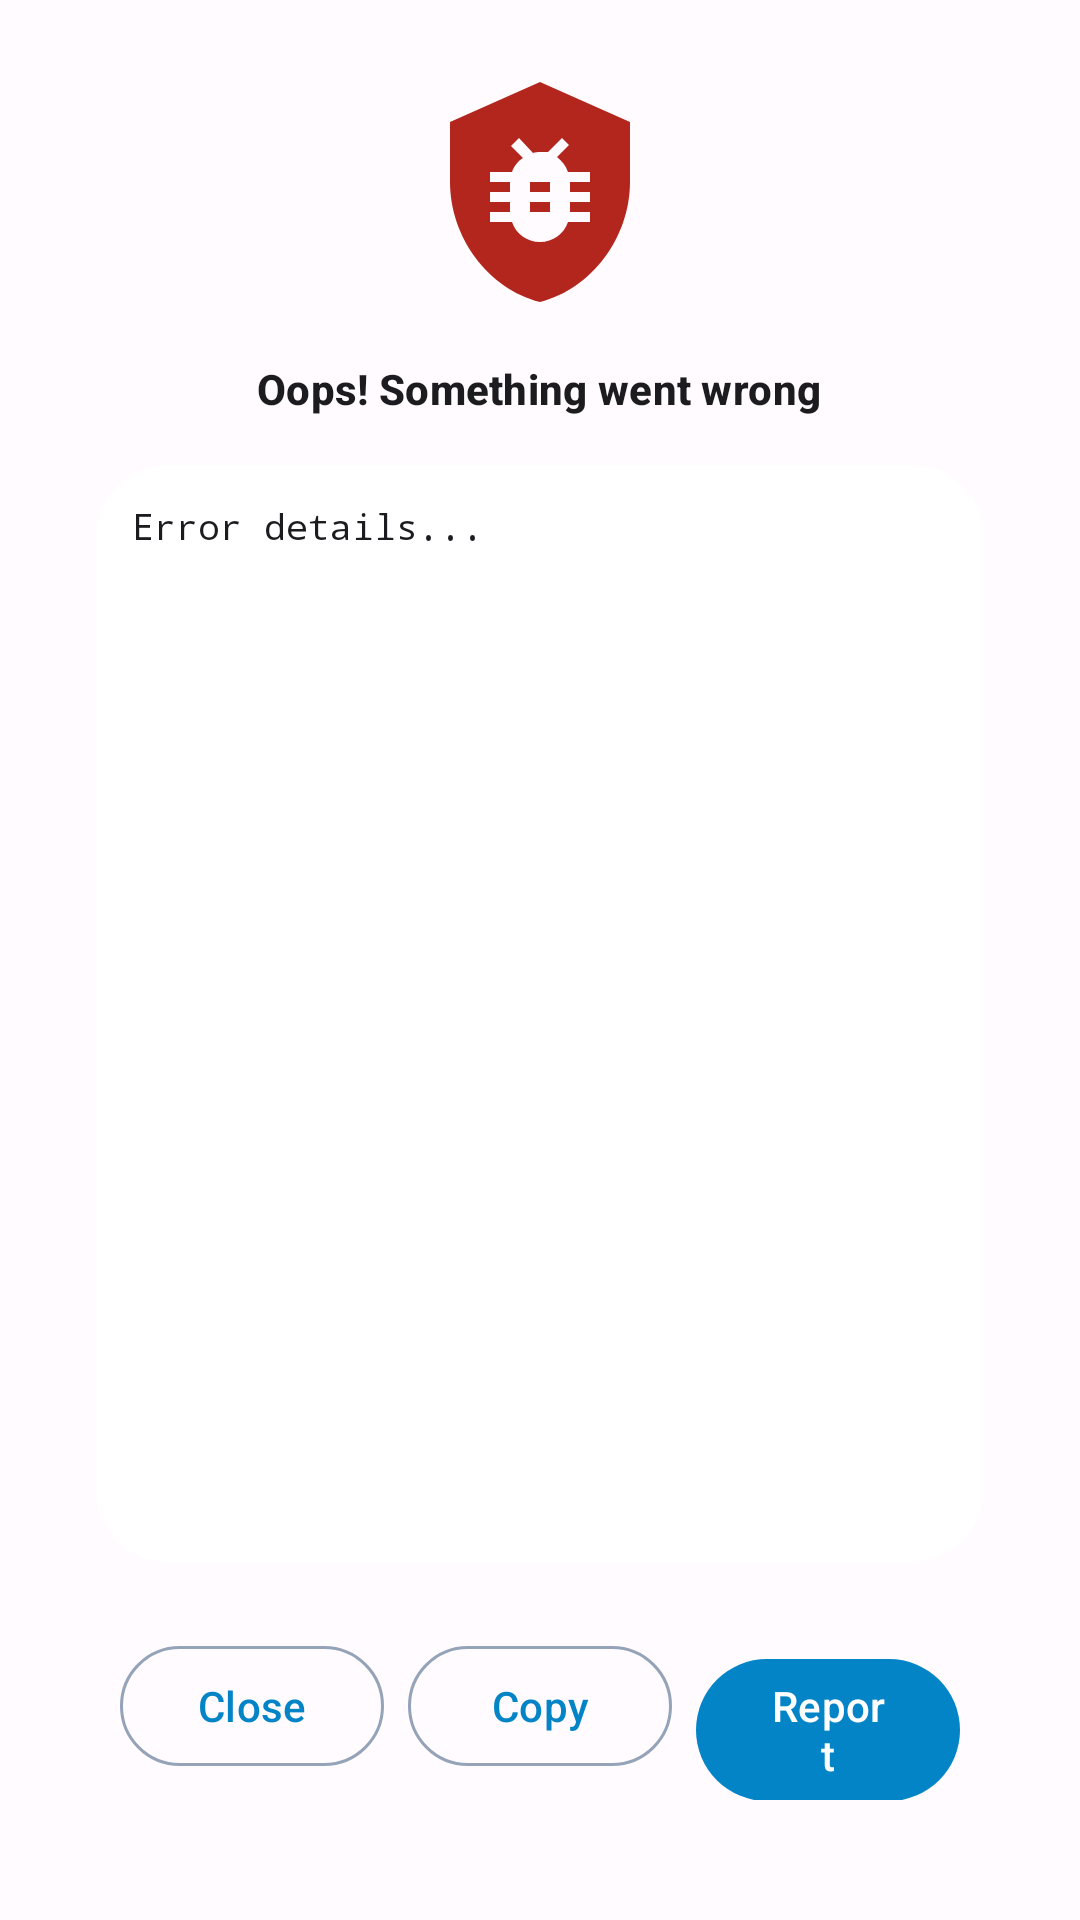

Named icons in this screenshot (1080 x 1920) and their bounding boxes, (left=x1, top=y1, right=x2, bottom=y2):
shieldbug: (left=450, top=82, right=630, bottom=302)
